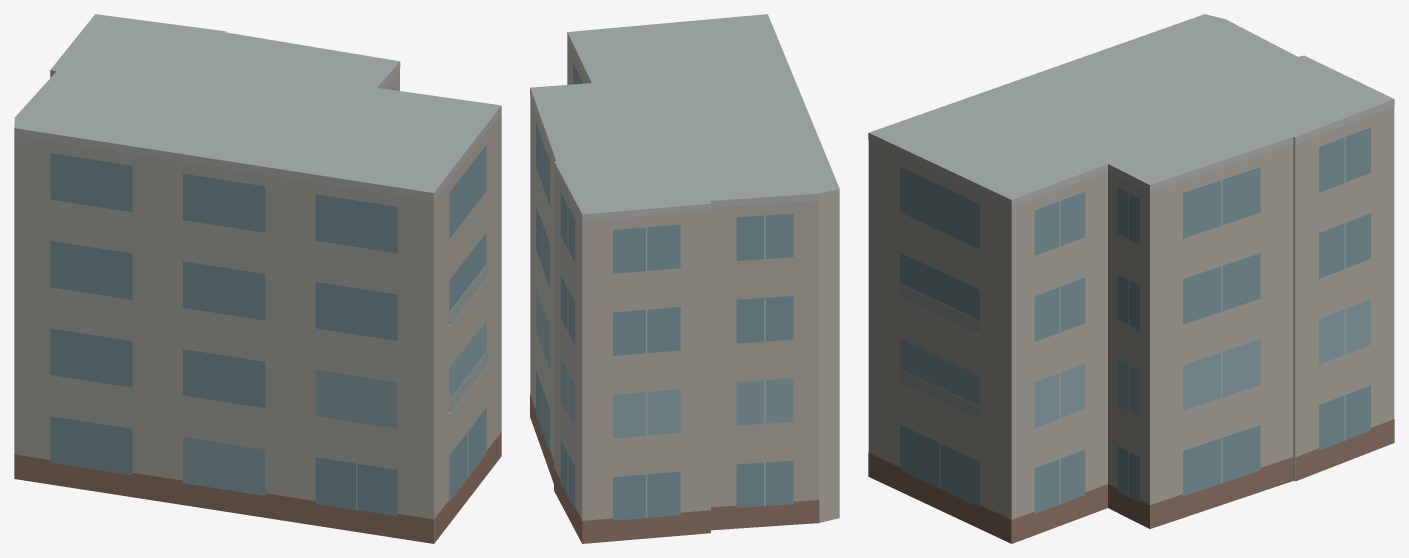
File: survey-upis-32813250.glb
3 renders of one model, left to right at view 1: azimuth 30°, elevation 25°; view 2: azimuth 150°, elevation 25°; view 3: azimuth 270°, elevation 25°, orthographic. The views are drawn at different scales.
Visible parts, largest first — view 1: survey-upis-32813250.tmp; view 2: survey-upis-32813250.tmp; view 3: survey-upis-32813250.tmp.
Boxes of the visible parts, <box> form: survey-upis-32813250.tmp: <box>14,14,501,543</box>; survey-upis-32813250.tmp: <box>530,14,839,543</box>; survey-upis-32813250.tmp: <box>868,14,1394,543</box>.
Size of the model in its own units: 13.52 by 11.65 by 16.15.
